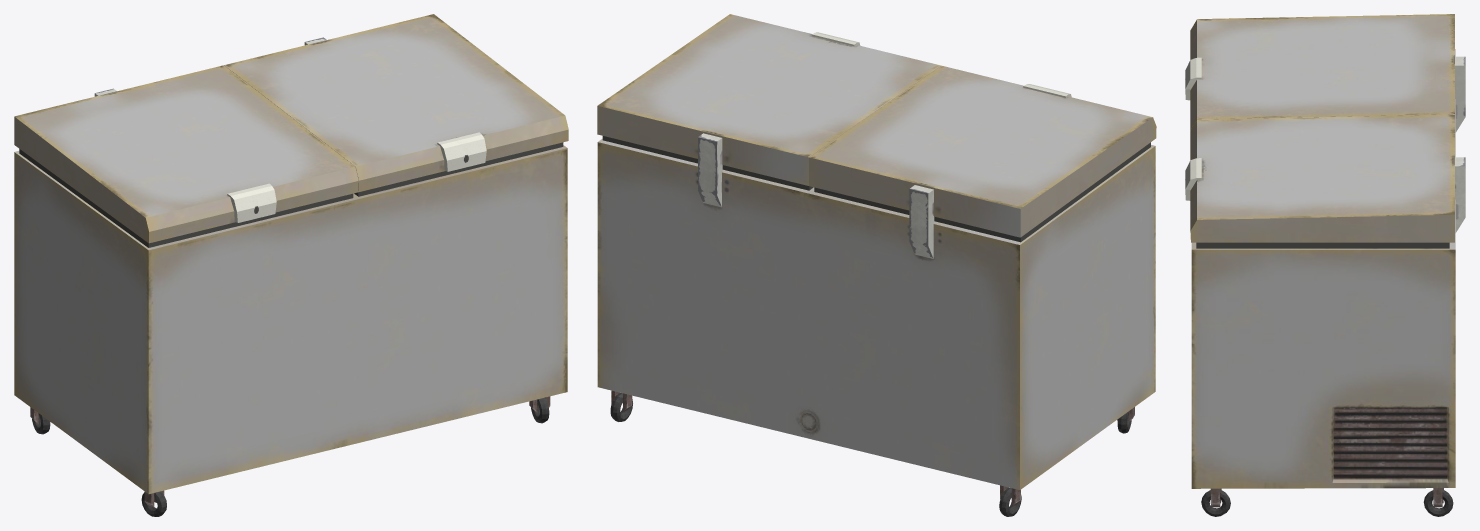
3 renders of one model, left to right at view 1: azimuth 30°, elevation 25°; view 2: azimuth 150°, elevation 25°; view 3: azimuth 270°, elevation 25°, orthographic. The views are drawn at different scales.
Visible parts, largest first — view 1: Freezer_LOW_lambert1_0; view 2: Freezer_LOW_lambert1_0; view 3: Freezer_LOW_lambert1_0.
Part boxes in pixels (left/top/right/bottom): Freezer_LOW_lambert1_0: left=14, top=14, right=568, bottom=516; Freezer_LOW_lambert1_0: left=597, top=14, right=1156, bottom=516; Freezer_LOW_lambert1_0: left=1185, top=14, right=1465, bottom=516.
Size of the model in its own units: 8.68 by 6.23 by 5.12.
1 material, 1 textured.
